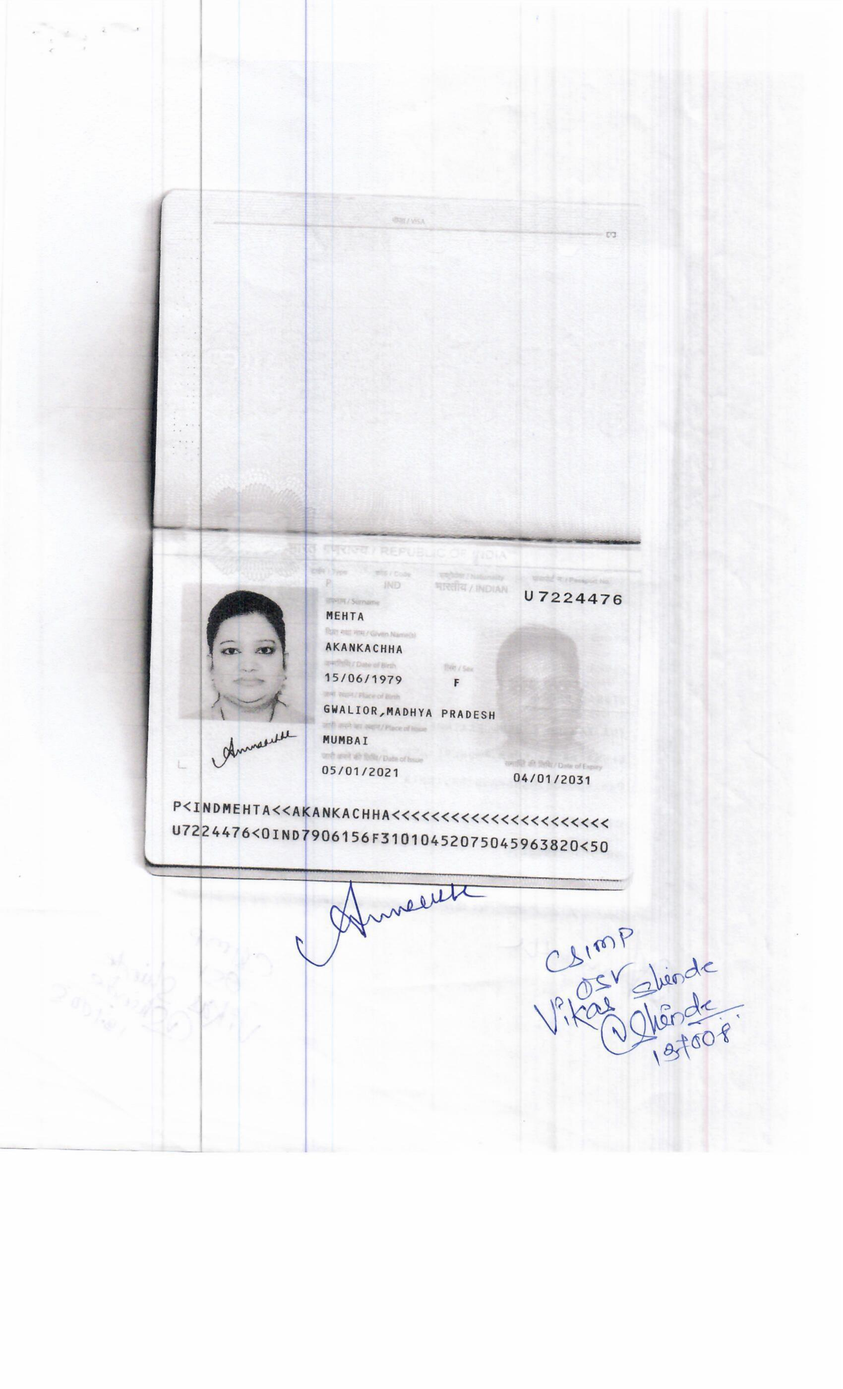DOB: (312, 666, 415, 690)
Surname: (321, 605, 371, 623)
country_code: (372, 576, 410, 594)
date_of_expiry: (499, 760, 605, 792)
date_of_issue: (312, 761, 407, 783)
details: (162, 800, 622, 858)
name: (316, 637, 439, 662)
nationality: (431, 579, 516, 599)
passport_no: (514, 584, 632, 612)
photo: (193, 586, 305, 721)
place_of_birth: (321, 699, 505, 726)
place_of_issue: (320, 731, 377, 752)
sex: (441, 670, 481, 698)
sign: (215, 724, 302, 771)
type: (312, 572, 353, 593)
